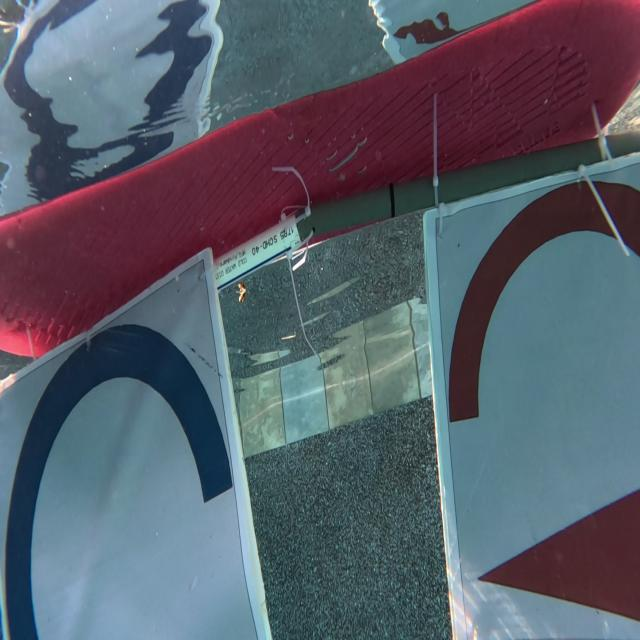blue_side: (0, 298, 248, 640)
red_side: (443, 170, 640, 630)
